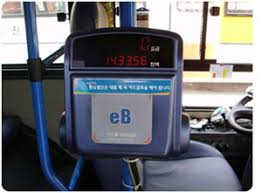terminal: (60, 26, 192, 162)
